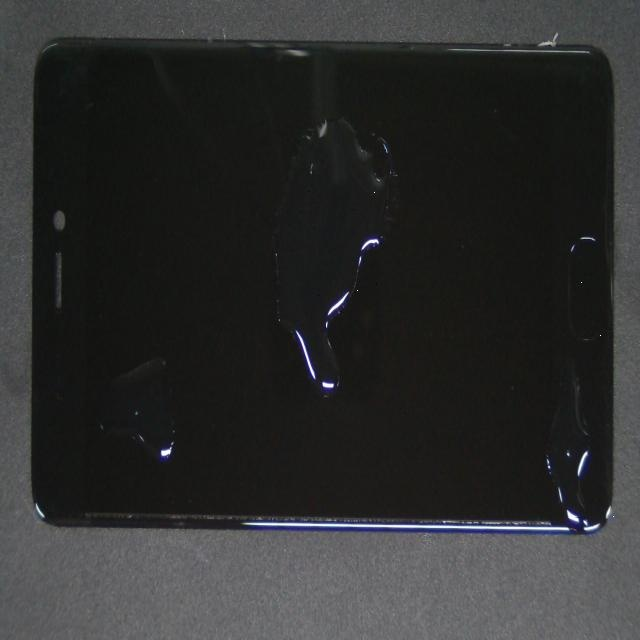oil: (326, 175, 640, 394), (18, 198, 172, 640), (189, 14, 476, 184)
